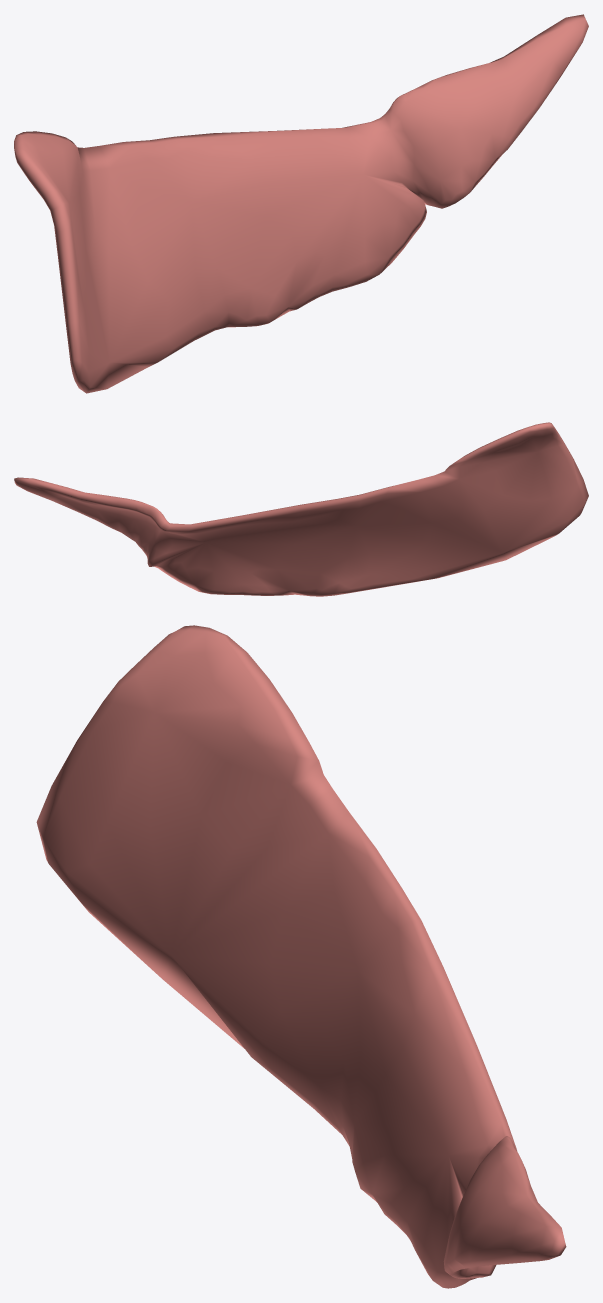
The picture shows the model from 3 angles, top to bottom: view 1: azimuth 30°, elevation 25°; view 2: azimuth 150°, elevation 25°; view 3: azimuth 270°, elevation 25°; orthographic projection. The views are drawn at different scales.
Visible parts, largest first — view 1: ZA_e1a9412b02ee143d; view 2: ZA_e1a9412b02ee143d; view 3: ZA_e1a9412b02ee143d.
Boxes of the visible parts, x1,y1,x2,y2 form: ZA_e1a9412b02ee143d: (14,14,588,393); ZA_e1a9412b02ee143d: (14,422,588,596); ZA_e1a9412b02ee143d: (36,625,566,1288).
Bounding box in the file's own units: 0.0227 × 0.00944 × 0.0117.
